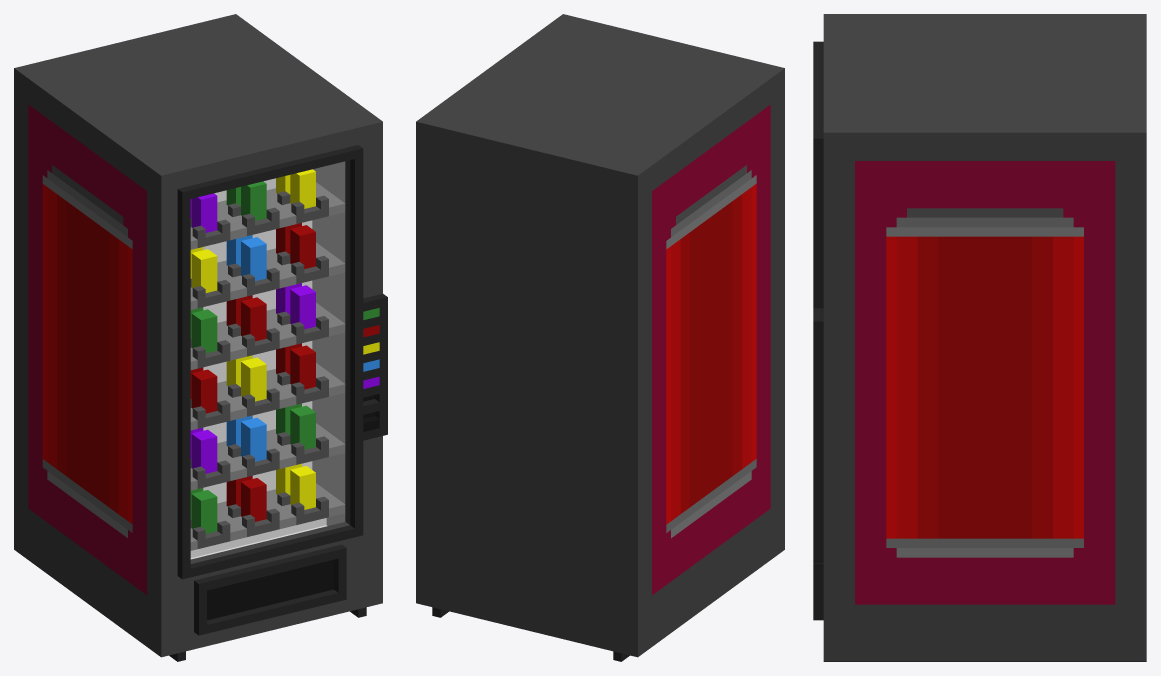
File: VoxelSodaMachine.obj
The picture shows the model from 3 angles, left to right: view 1: azimuth 30°, elevation 25°; view 2: azimuth 150°, elevation 25°; view 3: azimuth 270°, elevation 25°; orthographic projection. The views are drawn at different scales.
Size of the model in its own units: 2.7 by 5.7 by 3.2.
Materials: 1 (1 with a texture image).
